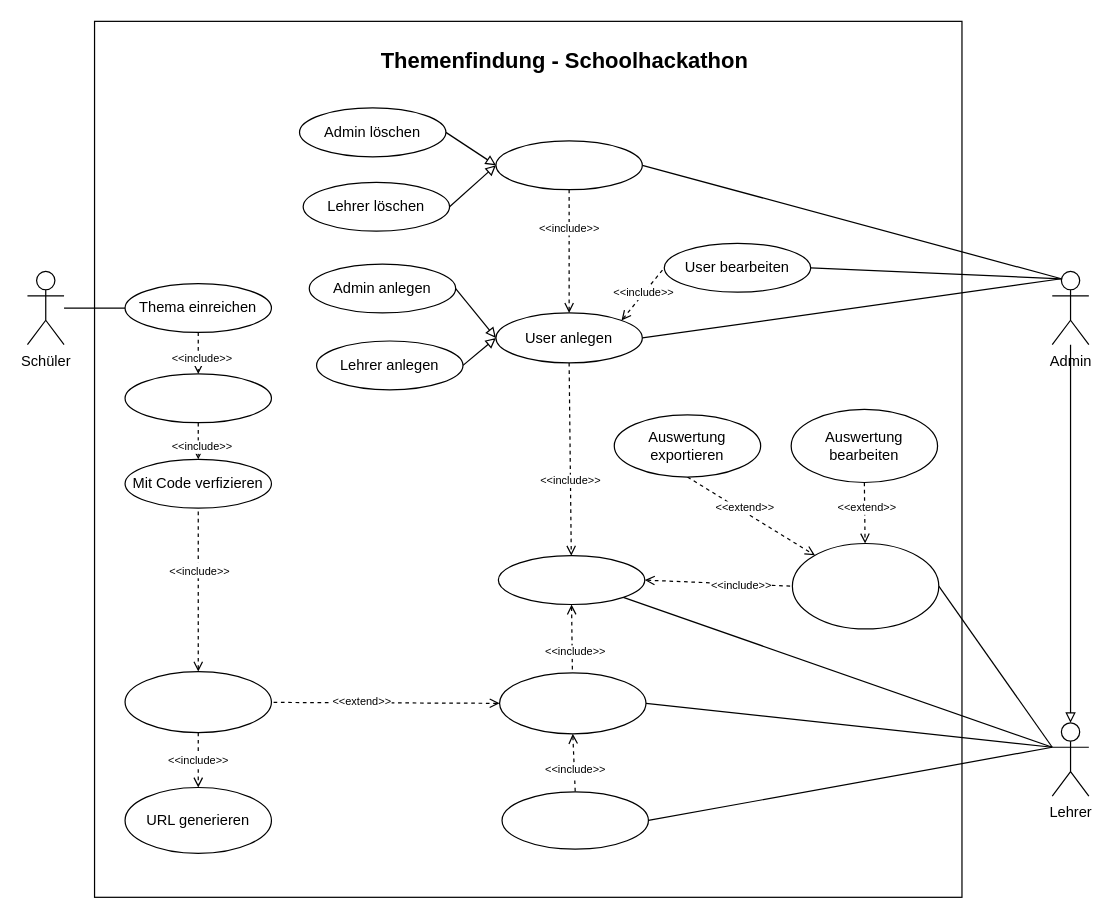
This 1113x919 diagram has some shape labels left out. Each missing label, with the box of its shape:
Auswertung anfordern: (791, 542, 939, 629)
Codes generieren: (124, 670, 271, 733)
Einloggen: (497, 554, 645, 605)
Thema eingeben: (124, 373, 271, 423)
Umfrage erstellen: (498, 672, 646, 734)
Umfrage löschen: (501, 791, 648, 849)
User löschen: (495, 140, 642, 190)
